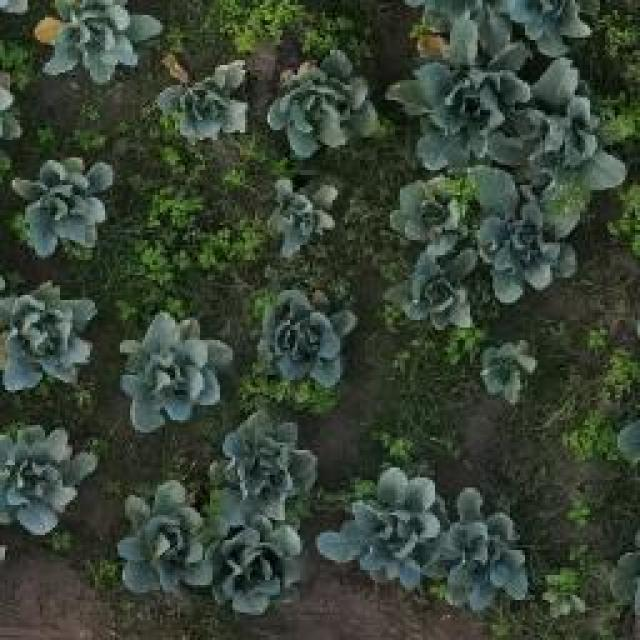cabbage: (401, 36, 532, 165), (268, 40, 380, 160), (118, 312, 230, 430), (325, 462, 435, 580), (532, 94, 630, 220), (0, 417, 92, 537), (212, 411, 316, 517), (206, 518, 306, 620), (120, 482, 211, 591), (483, 198, 574, 306), (262, 286, 358, 388), (16, 156, 110, 256), (30, 0, 160, 69), (0, 293, 101, 381), (157, 58, 251, 136), (396, 250, 481, 335), (392, 174, 481, 251), (266, 179, 344, 254), (479, 336, 540, 406)
